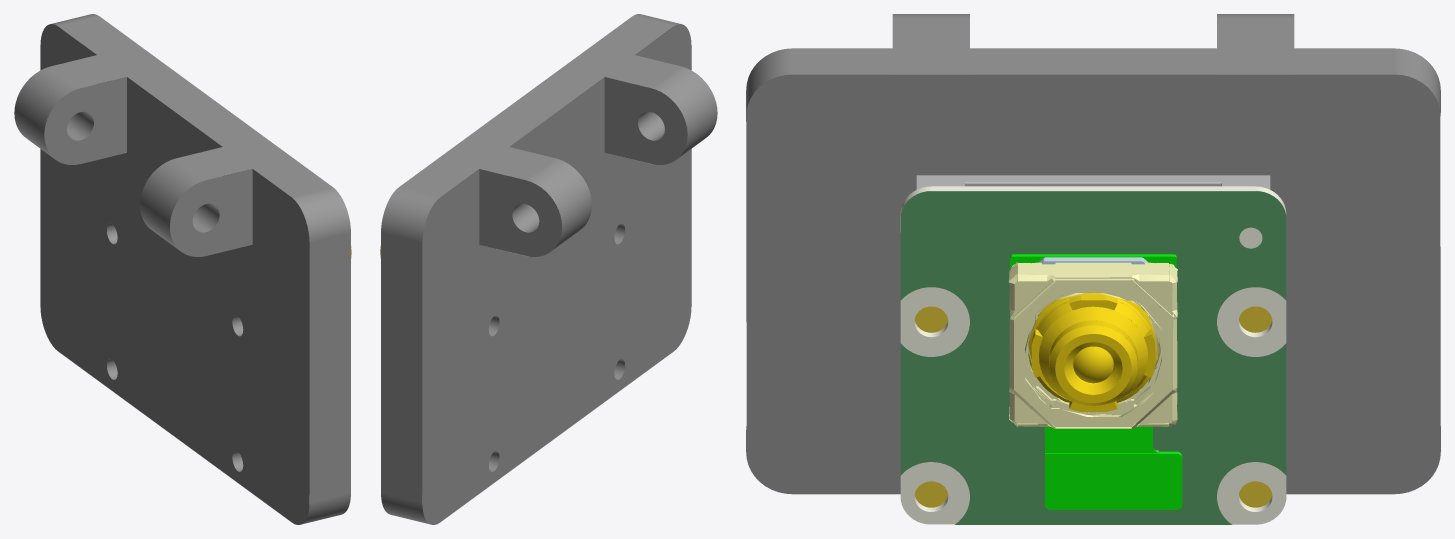
Rendered from front_camera_mount.dae.
3 renders of one model, left to right at view 1: azimuth 30°, elevation 25°; view 2: azimuth 150°, elevation 25°; view 3: azimuth 270°, elevation 25°, orthographic. The views are drawn at different scales.
Parts seen in each view (by area): view 1: Assembly 4; view 2: Assembly 4; view 3: Assembly 4, SOLDERMASK_BOTTOM.002, ATMEL_ATSHA204A_8UDFN.018, Dielectric.002, ATMEL_ATSHA204A_8UDFN.015, ATMEL_ATSHA204A_8UDFN.016, FCI_SFW15R-1STE1LF.002.
Part boxes in pixels (x1,y1,x2,y2): Assembly 4: (14,14,350,524); Assembly 4: (381,14,717,524); Assembly 4: (746,14,1440,507); SOLDERMASK_BOTTOM.002: (900,191,1286,524); ATMEL_ATSHA204A_8UDFN.018: (1008,262,1177,428); Dielectric.002: (900,186,1286,524); ATMEL_ATSHA204A_8UDFN.015: (1028,293,1158,411); ATMEL_ATSHA204A_8UDFN.016: (1010,254,1182,509); FCI_SFW15R-1STE1LF.002: (916,175,1270,189).
Bounding box in the file's own units: 0.0236 × 0.045 × 0.03.
